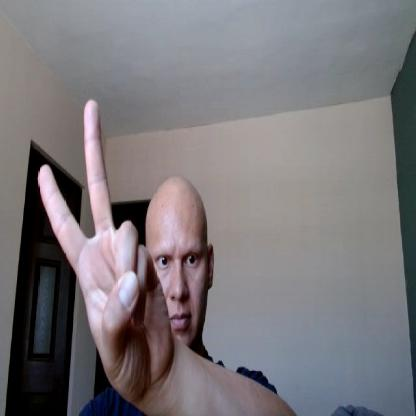V: (36, 96, 174, 393)
